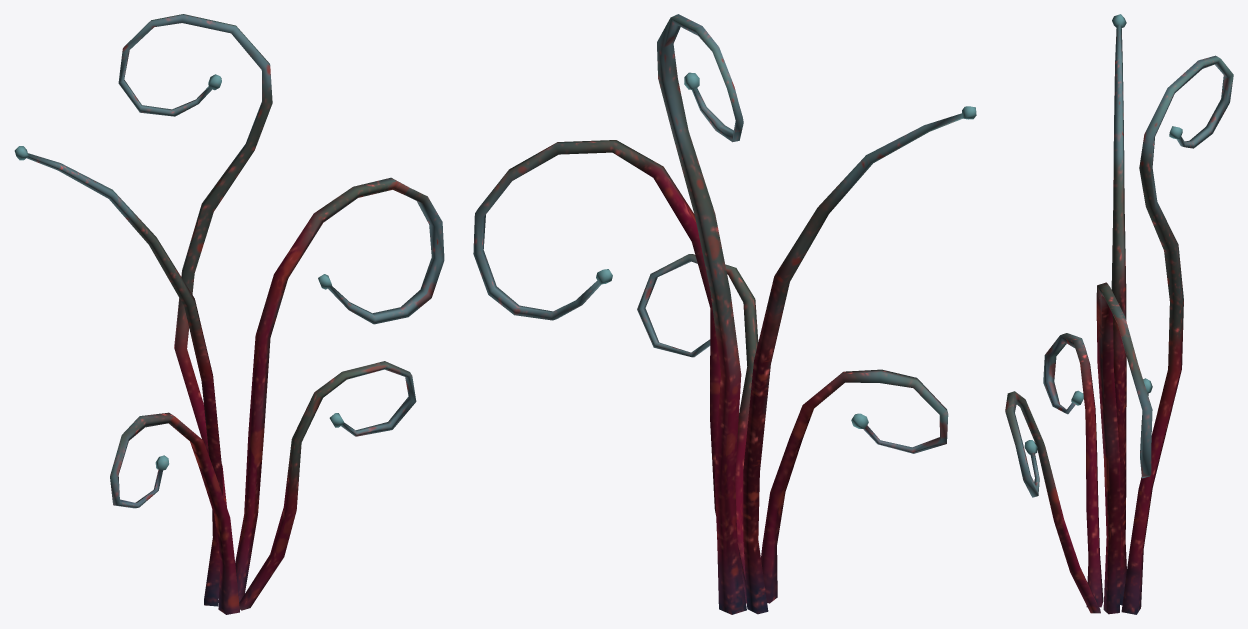
Rendered from Sce_Aquarium_Hawaii01_SeaAnemone12_a.FBX.
3 views of the same model, side by side, from view 1: azimuth 30°, elevation 25°; view 2: azimuth 150°, elevation 25°; view 3: azimuth 270°, elevation 25° (orthographic). The views are drawn at different scales.
Parts seen in each view (by area): view 1: Sce_Aquarium_Hawaii01_SeaAnemone12_a; view 2: Sce_Aquarium_Hawaii01_SeaAnemone12_a; view 3: Sce_Aquarium_Hawaii01_SeaAnemone12_a.
Boxes of the visible parts, x1,y1,x2,y2 form: Sce_Aquarium_Hawaii01_SeaAnemone12_a: (14,14,444,614); Sce_Aquarium_Hawaii01_SeaAnemone12_a: (473,14,976,614); Sce_Aquarium_Hawaii01_SeaAnemone12_a: (1005,14,1233,614).
Bounding box in the file's own units: 0.7533 × 0.9073 × 0.3439.
